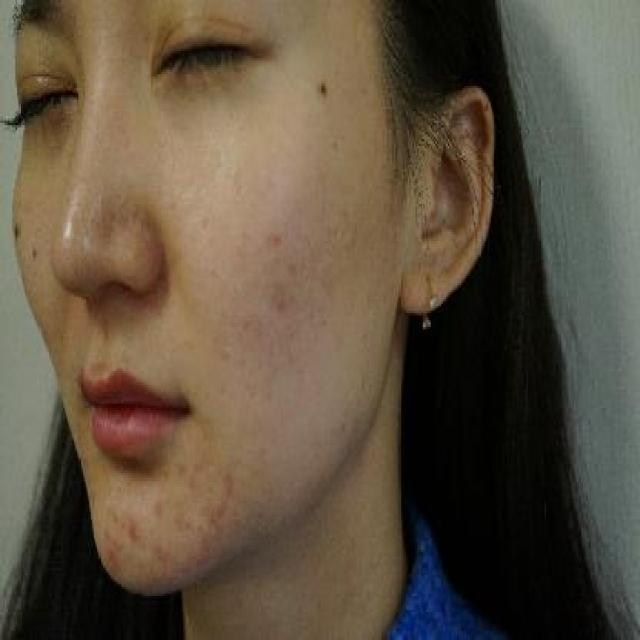acne: (268, 271, 296, 320), (215, 456, 243, 504), (201, 498, 234, 534), (122, 512, 148, 556), (312, 71, 336, 106)
